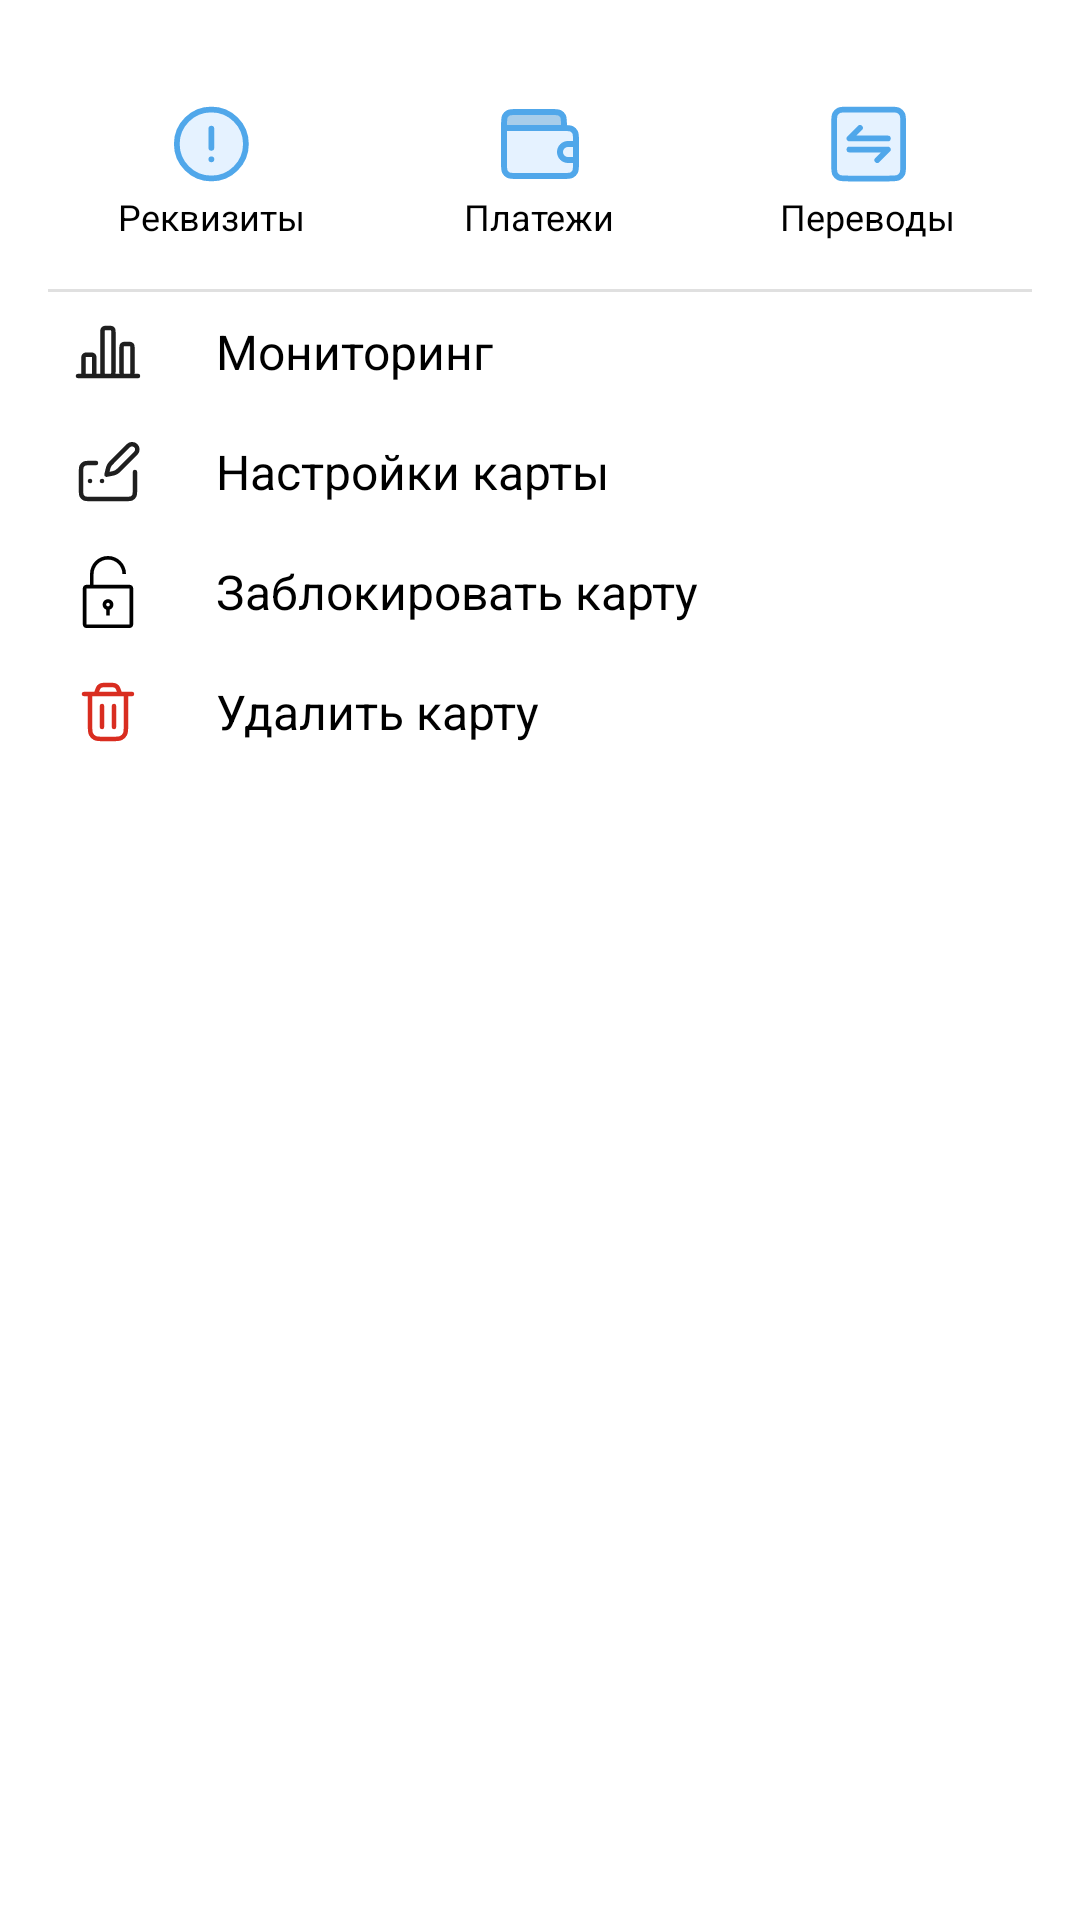

Where to tap for icons on this 1080 × 1920 app screen, as (x,y):
card settings: (109,472)
delete card: (107,712)
monitoring: (107,352)
open lock: (108,592)
